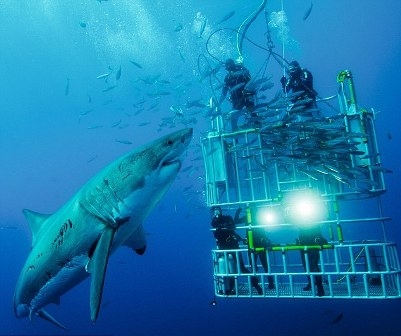shark: (9, 120, 198, 331)
